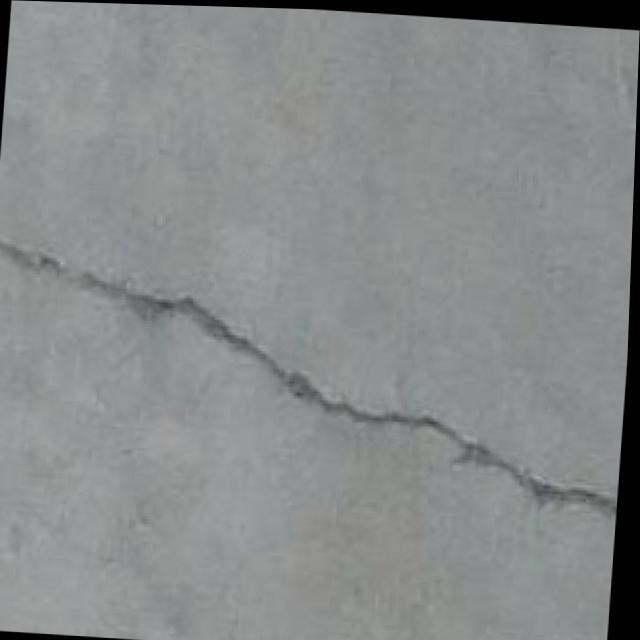Crack: (0, 223, 634, 528)
